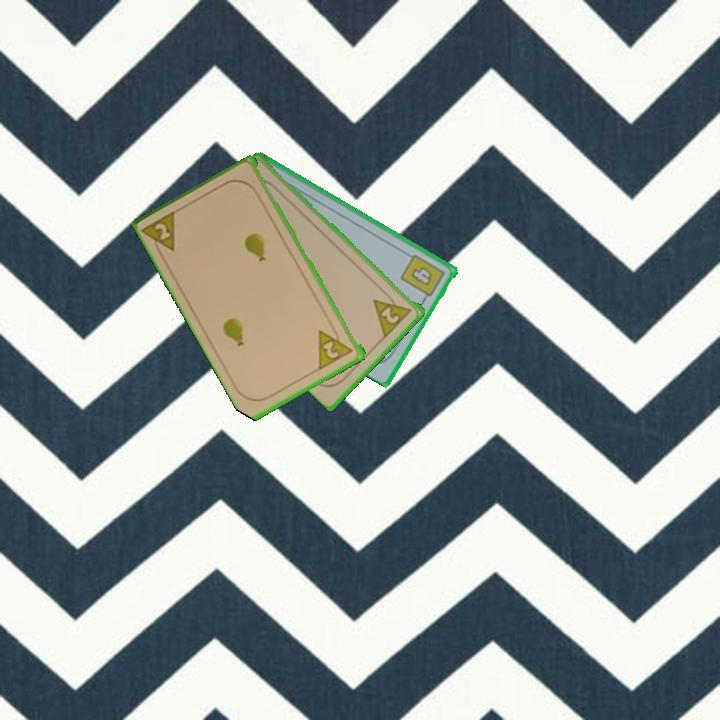2p: (370, 288, 415, 340), (140, 207, 181, 261), (315, 321, 356, 372)
4b: (397, 250, 449, 304)
